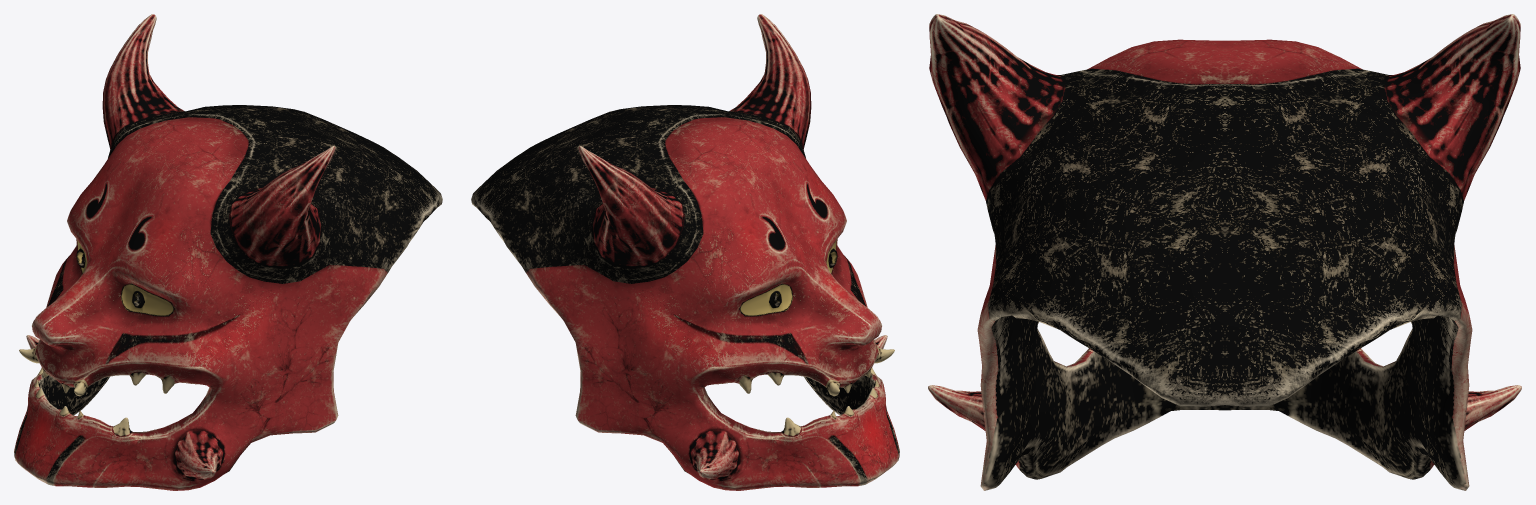
The model's file is japanese_demon_mask.glb.
3 renders of one model, left to right at view 1: azimuth 30°, elevation 25°; view 2: azimuth 150°, elevation 25°; view 3: azimuth 270°, elevation 25°, orthographic. The views are drawn at different scales.
Parts seen in each view (by area): view 1: polySurface1; view 2: polySurface1; view 3: polySurface1.
Boxes of the visible parts, left/top/right/bottom form: polySurface1: left=14, top=14, right=442, bottom=490; polySurface1: left=471, top=14, right=899, bottom=490; polySurface1: left=928, top=14, right=1521, bottom=490.
Bounding box in the file's own units: 6.75 × 5.5 × 5.41.
Materials: 1 (1 with a texture image).
